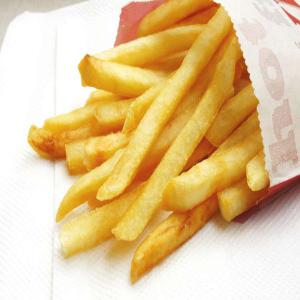fries: (9, 10, 279, 268)
